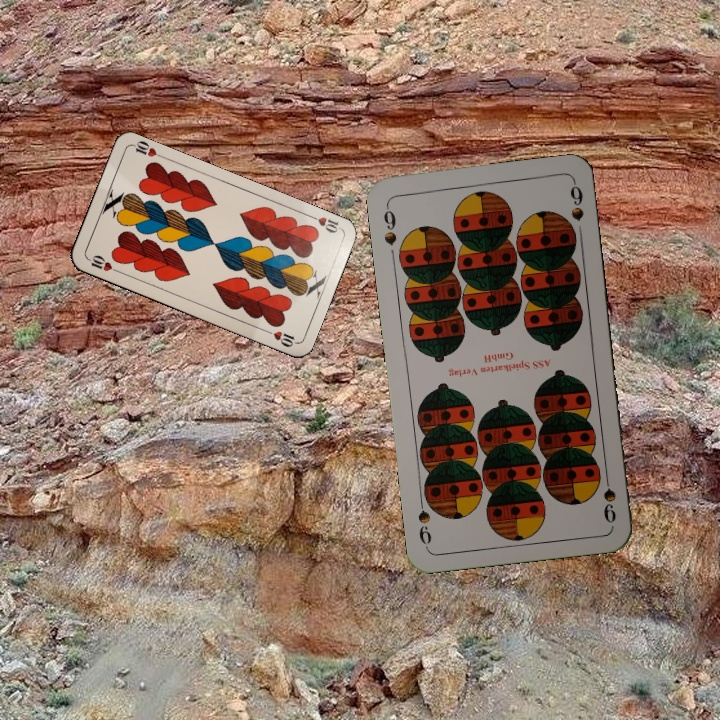H10: (304, 210, 343, 236), (84, 251, 123, 275)
S9: (599, 467, 619, 526), (380, 200, 400, 248)
